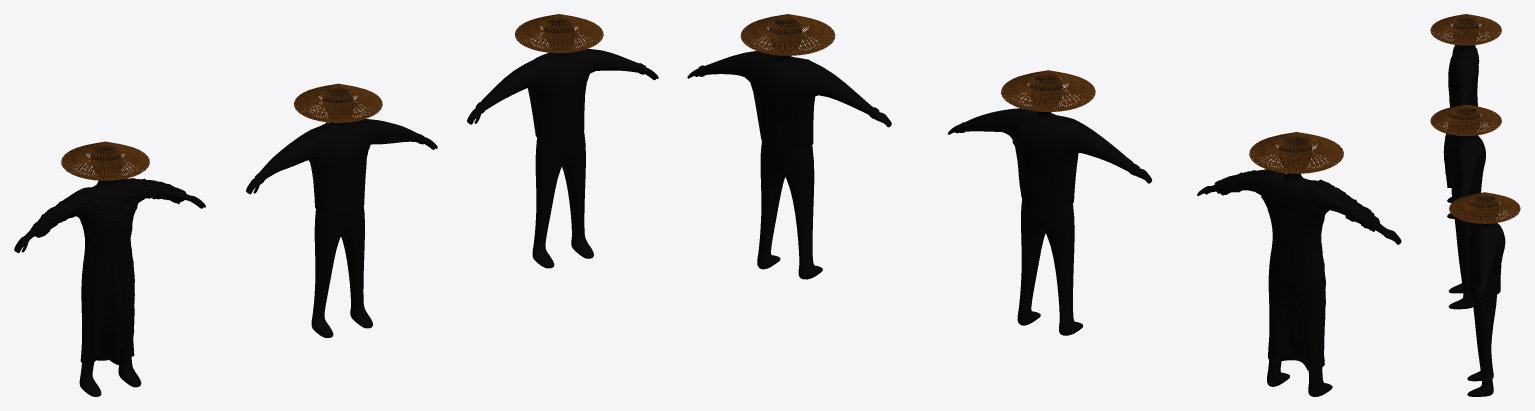
File: unhumnaa.fbx
3 renders of one model, left to right at view 1: azimuth 30°, elevation 25°; view 2: azimuth 150°, elevation 25°; view 3: azimuth 270°, elevation 25°, orthographic. The views are drawn at different scales.
Parts seen in each view (by area): view 1: Plane.001, Cube.001, Cube.003, Cube.004, Cube.002, Cube, Cone.002, Cone.001, Cone; view 2: Plane.001, Cube.001, Cube.003, Cube.004, Cube.002, Cube, Cone, Cone.002, Cone.001; view 3: Cube.004, Cube.003, Cube.001, Cone.002, Cone, Cone.001, Plane.001, Cube.002, Cube.
Boxes of the visible parts, x1,y1,x2,y2 form: Plane.001: (31, 178, 186, 366); Cube.001: (255, 119, 425, 214); Cube.003: (475, 49, 646, 142); Cube.004: (467, 18, 658, 268); Cube.002: (246, 88, 437, 337); Cube: (14, 146, 205, 396); Cone.002: (515, 14, 603, 53); Cone.001: (294, 83, 382, 122); Cone: (61, 141, 149, 180); Plane.001: (1214, 169, 1379, 371); Cube.001: (957, 108, 1139, 209); Cube.003: (697, 51, 879, 152); Cube.004: (687, 19, 891, 279); Cube.002: (948, 75, 1152, 335); Cube: (1197, 137, 1401, 396); Cone: (1249, 132, 1343, 173); Cone.002: (740, 14, 835, 55); Cone.001: (1001, 70, 1095, 111); Cube.004: (1467, 196, 1498, 396); Cube.003: (1469, 223, 1505, 296); Cube.001: (1450, 135, 1485, 207); Cone.002: (1449, 192, 1520, 223); Cone: (1430, 14, 1501, 45); Cone.001: (1430, 104, 1501, 135); Plane.001: (1443, 45, 1479, 187); Cube.002: (1448, 108, 1479, 309); Cube: (1447, 17, 1478, 218).
Size of the model in its own units: 2154 by 782 by 319.
